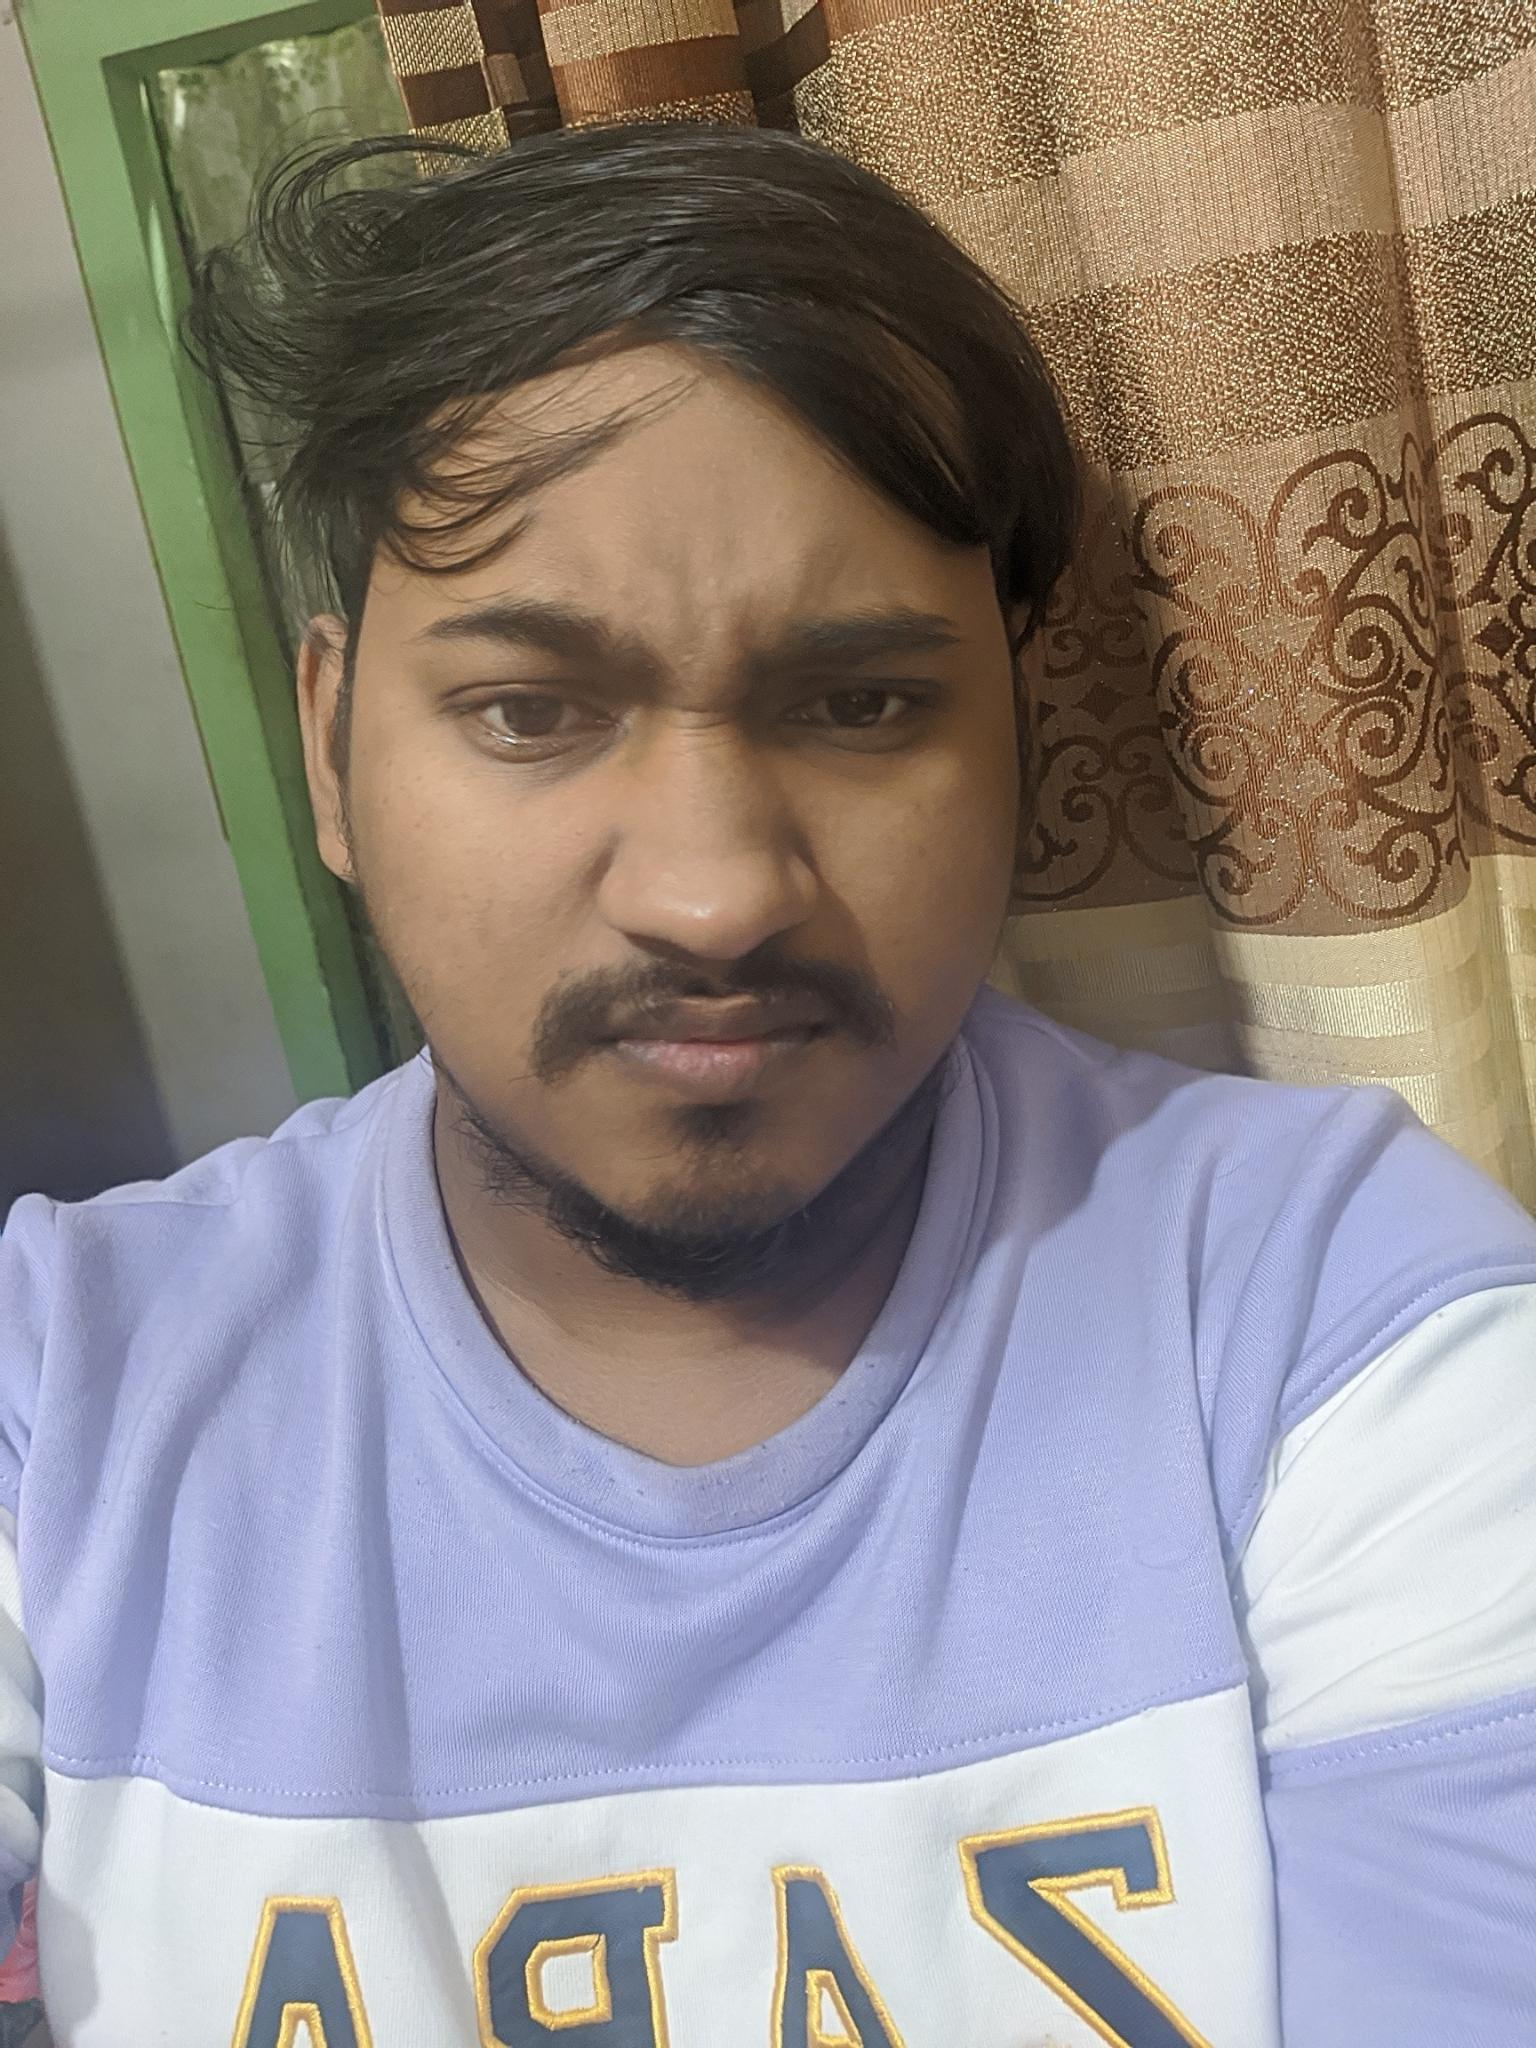Angry: (382, 482, 1023, 1240)
